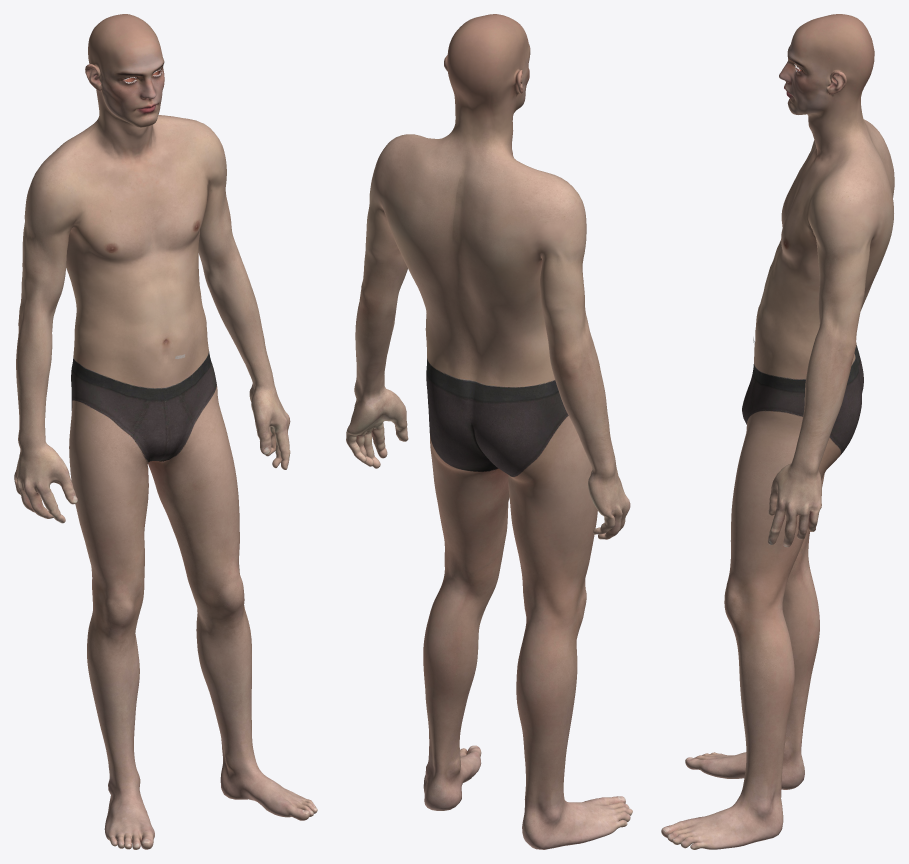
3 renders of one model, left to right at view 1: azimuth 30°, elevation 25°; view 2: azimuth 150°, elevation 25°; view 3: azimuth 270°, elevation 25°, orthographic. The views are drawn at different scales.
Visible parts, largest first — view 1: body.017, body.019, body.018, body.016; view 2: body.017, body.019, body.018, body.016; view 3: body.019, body.017, body.018, body.016.
Part boxes in pixels (x1=…): body.017: x1=28, y1=99, x2=233, y2=505; body.019: x1=72, y1=460, x2=317, y2=849; body.018: x1=14, y1=146, x2=290, y2=523; body.016: x1=85, y1=14, x2=164, y2=131; body.017: x1=374, y1=108, x2=592, y2=514; body.019: x1=423, y1=467, x2=632, y2=849; body.018: x1=346, y1=167, x2=630, y2=539; body.016: x1=444, y1=14, x2=530, y2=125; body.019: x1=661, y1=474, x2=824, y2=849; body.017: x1=735, y1=104, x2=894, y2=488; body.018: x1=767, y1=212, x2=876, y2=547; body.016: x1=779, y1=14, x2=874, y2=124.
Size of the model in its own units: 65.42 by 187 by 50.64.
Materials: 7 (5 with a texture image).
